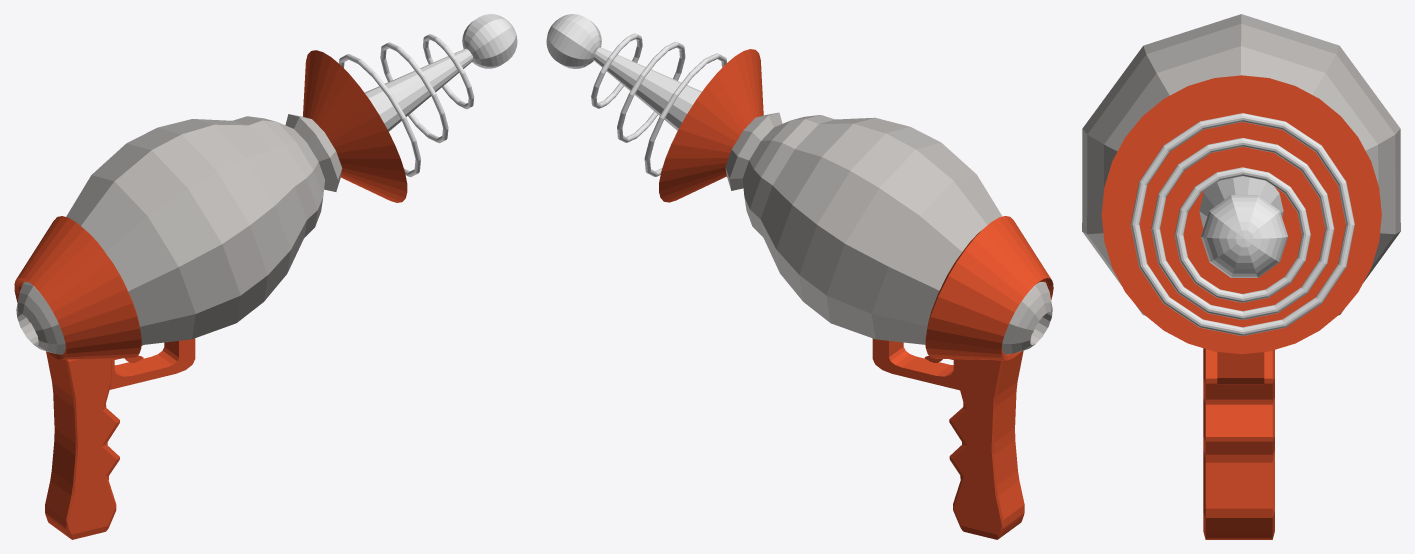
File: n_raygun.fbx
The picture shows the model from 3 angles, left to right: view 1: azimuth 30°, elevation 25°; view 2: azimuth 150°, elevation 25°; view 3: azimuth 270°, elevation 25°; orthographic projection. The views are drawn at different scales.
Visible parts, largest first — view 1: Sphere.003; view 2: Sphere.003; view 3: Sphere.003.
Part boxes in pixels (x1,y1,x2,y2): Sphere.003: [14, 14, 517, 539]; Sphere.003: [546, 14, 1053, 539]; Sphere.003: [1082, 14, 1400, 539].
Size of the model in its own units: 1588 by 1259 by 561.
